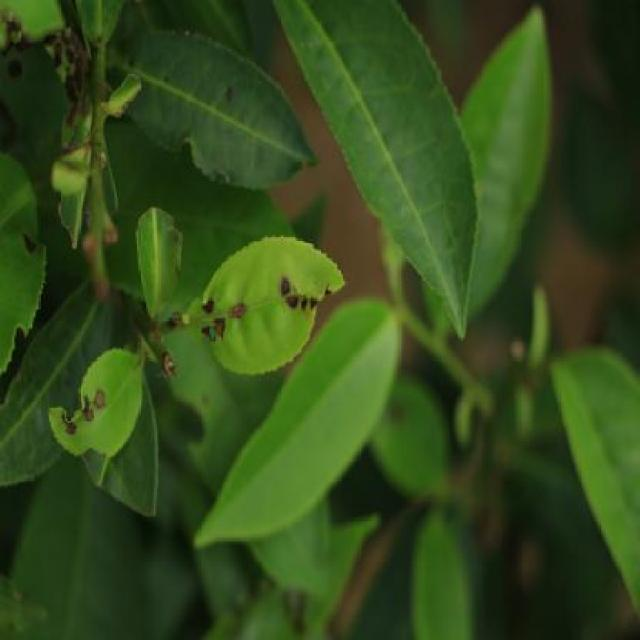Tea Mosquito bug infested leaf: (178, 237, 338, 368), (51, 342, 155, 458)
